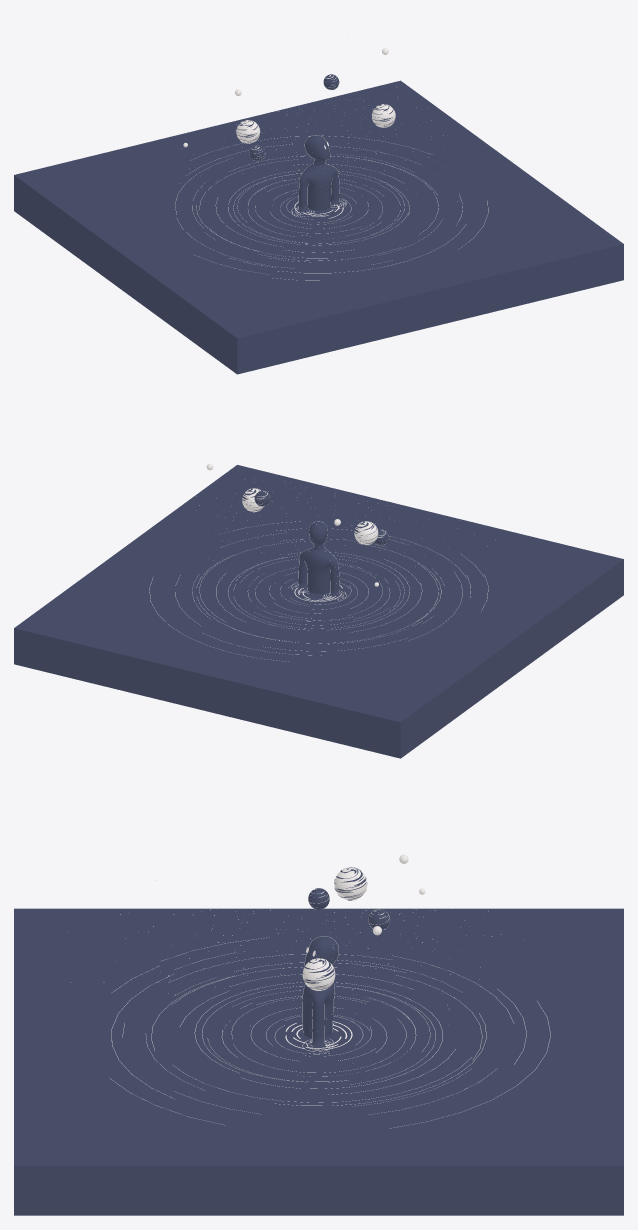
File: space_boi.glb
3 views of the same model, one above another, from view 1: azimuth 30°, elevation 25°; view 2: azimuth 150°, elevation 25°; view 3: azimuth 270°, elevation 25° (orthographic). The views are drawn at different scales.
Visible parts, largest first — view 1: Cube, body, waves; view 2: Cube, body, waves; view 3: Cube, waves, body, Sphere.001, Sphere.006.
Part boxes in pixels (x1,y1,x2,y2): Cube: (14,80,623,374); body: (298,135,339,212); waves: (175,135,488,280); Cube: (14,465,623,758); body: (298,521,339,596); waves: (149,521,488,661); Cube: (14,908,623,1215); waves: (110,937,550,1128); body: (302,936,338,1046); Sphere.001: (302,958,335,990); Sphere.006: (334,867,367,900).
Bounding box in the file's own units: 22.4 × 10.35 × 22.4.
